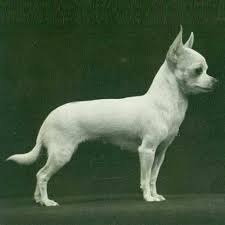chihuahua: (5, 24, 218, 207)
